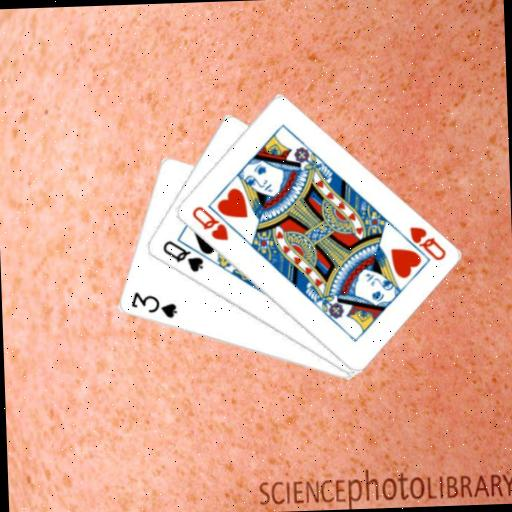3S: (126, 287, 178, 321)
QH: (394, 222, 447, 264), (188, 202, 230, 244)
QS: (158, 236, 205, 275)
